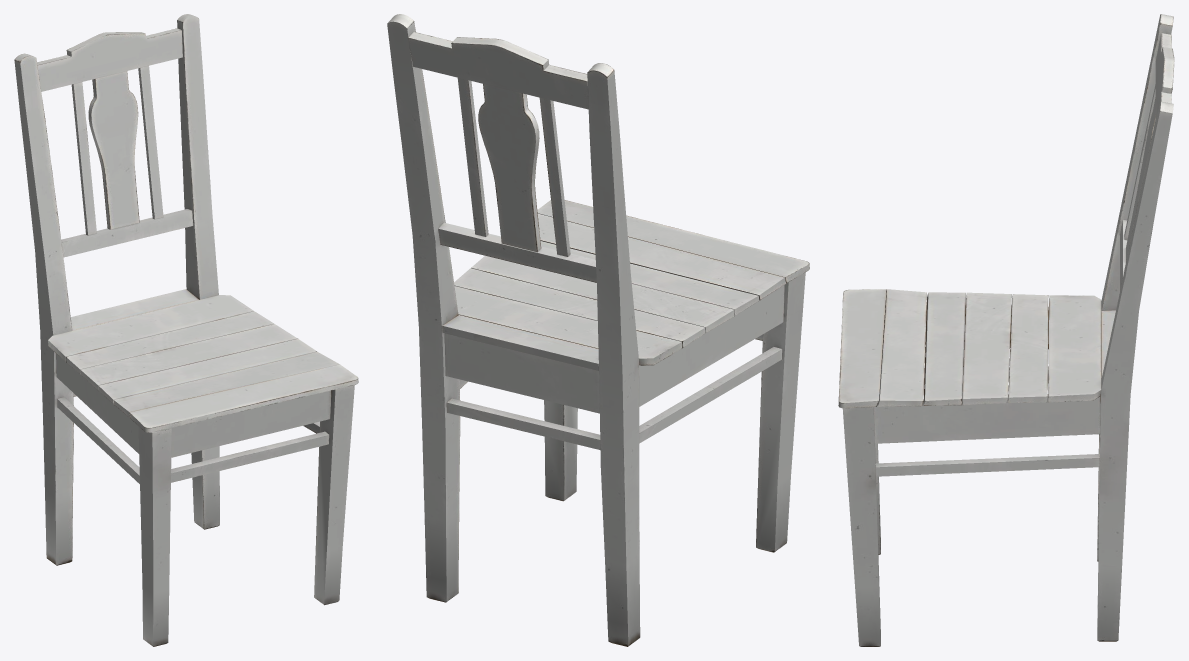
The model's file is chair.glb.
3 views of the same model, side by side, from view 1: azimuth 30°, elevation 25°; view 2: azimuth 150°, elevation 25°; view 3: azimuth 270°, elevation 25° (orthographic). The views are drawn at different scales.
Parts seen in each view (by area): view 1: painted_wooden_chair_01; view 2: painted_wooden_chair_01; view 3: painted_wooden_chair_01.
Boxes of the visible parts, x1,y1,x2,y2 form: painted_wooden_chair_01: [14, 14, 358, 646]; painted_wooden_chair_01: [387, 14, 809, 646]; painted_wooden_chair_01: [838, 14, 1174, 646].
Size of the model in its own units: 0.4317 by 0.9565 by 0.5398.
Materials: 1 (1 with a texture image).
